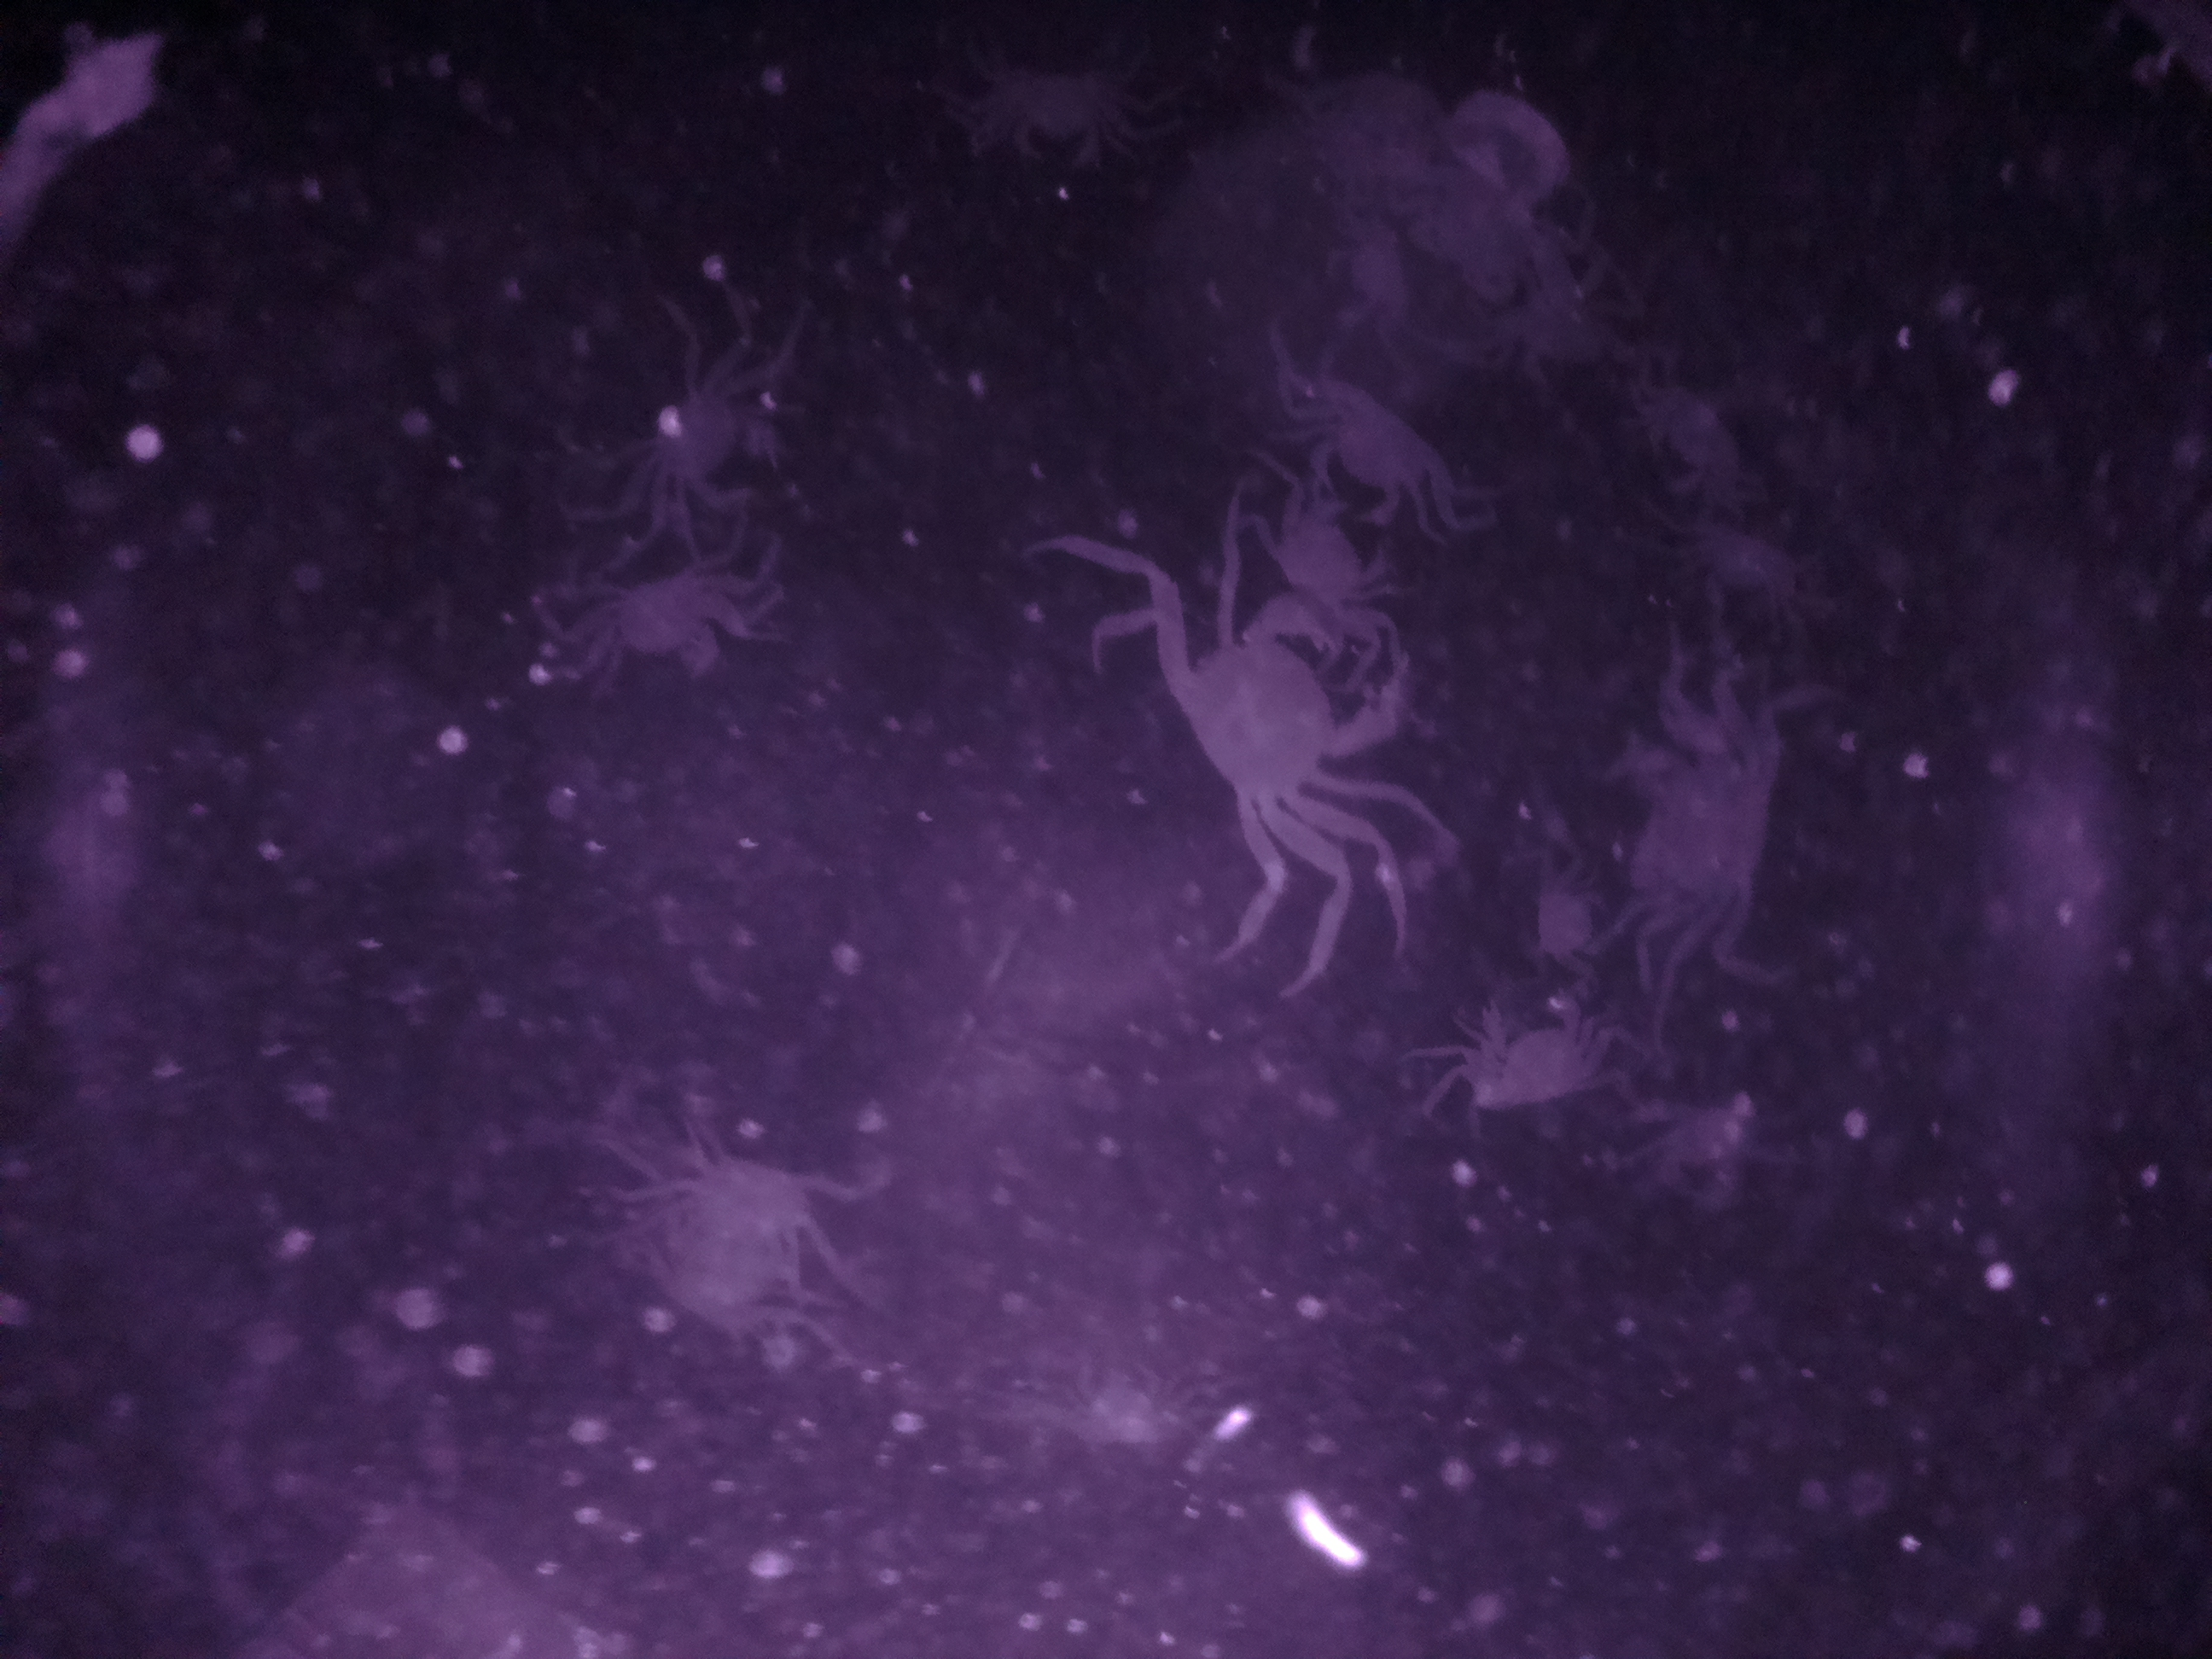Crab: (1143, 572, 1423, 877), (1284, 376, 1470, 554), (1437, 964, 1630, 1134)
